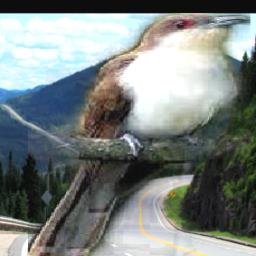Cuckoo: (29, 13, 252, 256)
